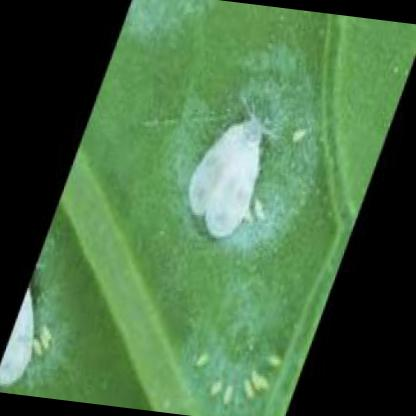whitefly: (190, 119, 261, 238)
